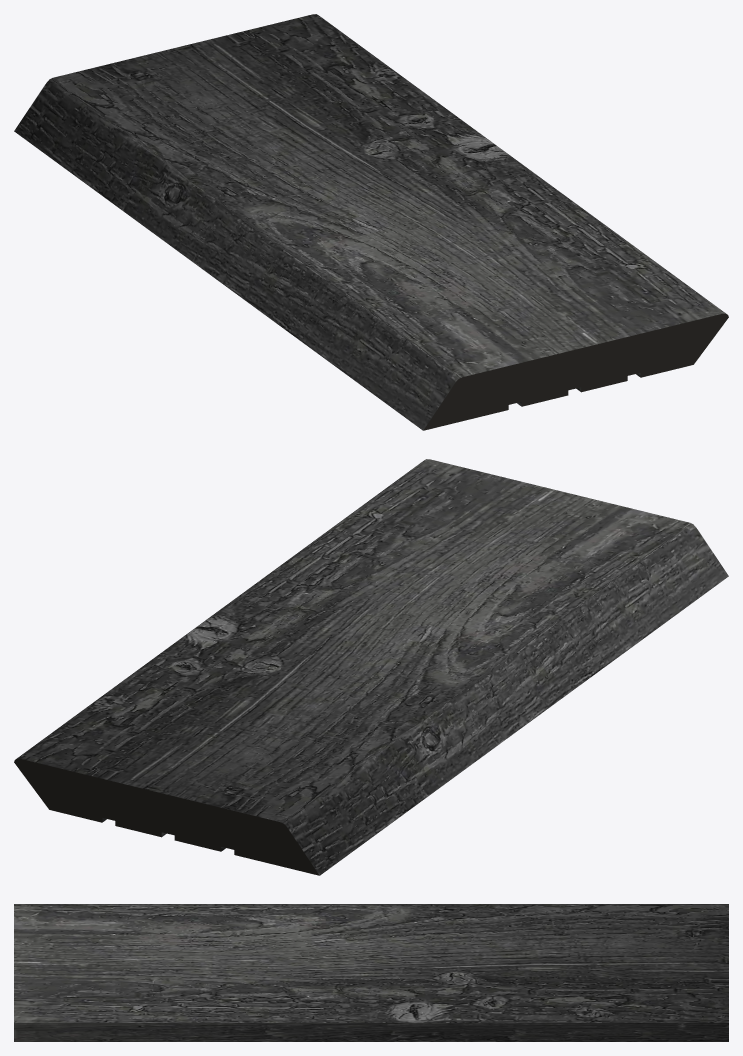
File: larch-facade-rhombus-carbon-light.glb
The picture shows the model from 3 angles, top to bottom: view 1: azimuth 30°, elevation 25°; view 2: azimuth 150°, elevation 25°; view 3: azimuth 270°, elevation 25°; orthographic projection. The views are drawn at different scales.
Visible parts, largest first — view 1: Rombas; view 2: Rombas; view 3: Rombas.
Part boxes in pixels (left/top/right/bottom): Rombas: left=14, top=14, right=728, bottom=430; Rombas: left=14, top=459, right=728, bottom=875; Rombas: left=14, top=904, right=728, bottom=1041.
Size of the model in its own units: 0.0723 by 0.00995 by 0.1675.
Materials: 3 (1 with a texture image).
